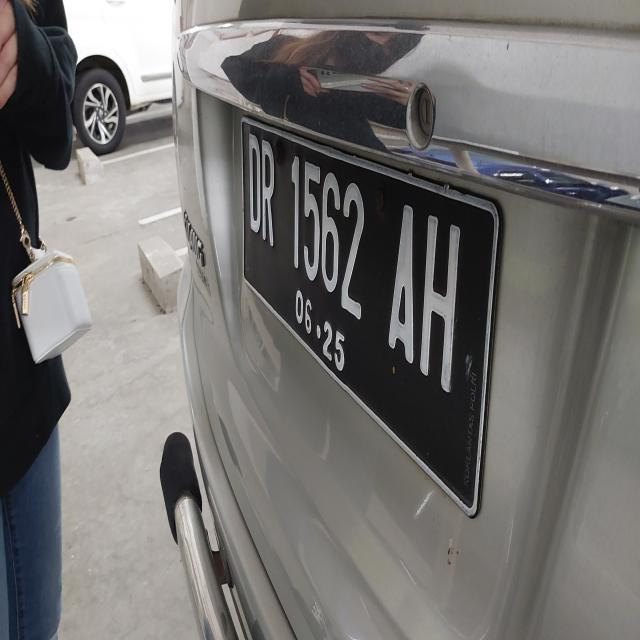1: (280, 143, 306, 274)
2: (334, 168, 372, 326)
5: (300, 148, 322, 290)
6: (321, 155, 346, 305)
A: (374, 187, 422, 377)
D: (238, 130, 261, 242)
H: (416, 190, 464, 424)
R: (256, 130, 286, 254)
